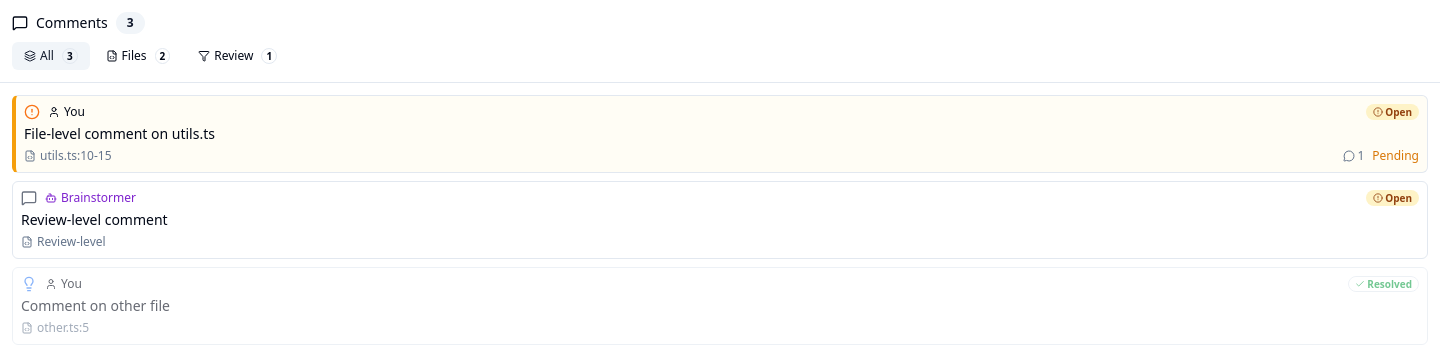
Scenario: CommentPanel › filter functionality › shows review-level comments when Review filter clicked
Check: the text "File-level comment on utils.ts" is shown, box left=24, top=124, right=215, bottom=143
What coordinates should you click on to do the following:
click the button with aria-label "review filter"
I would click on:
 (238, 56)
Its box is left=186, top=42, right=289, bottom=70.
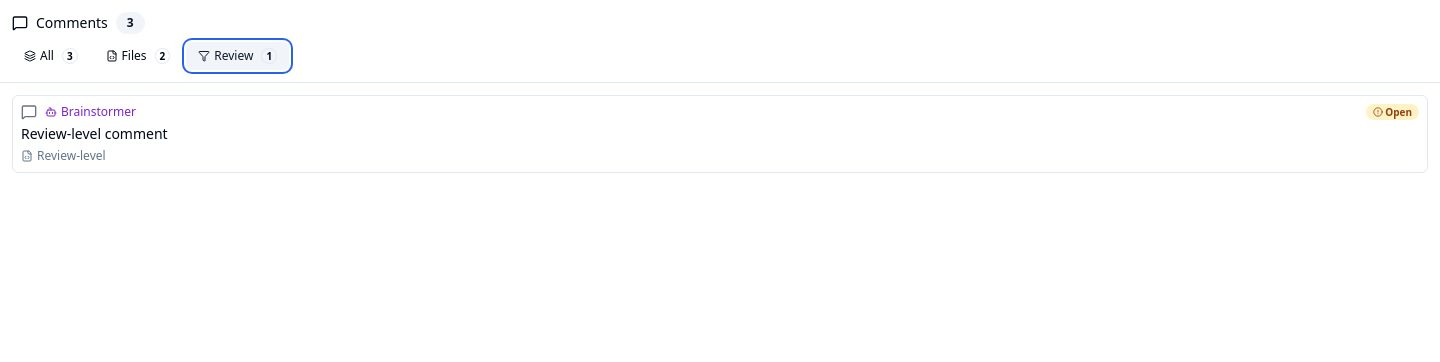
Check: the text "Review-level comment" is shown, box left=21, top=124, right=168, bottom=143
Check: the button "File-level comment on utils.ts" is gone
Check: the button "Comment on other file" is gone
